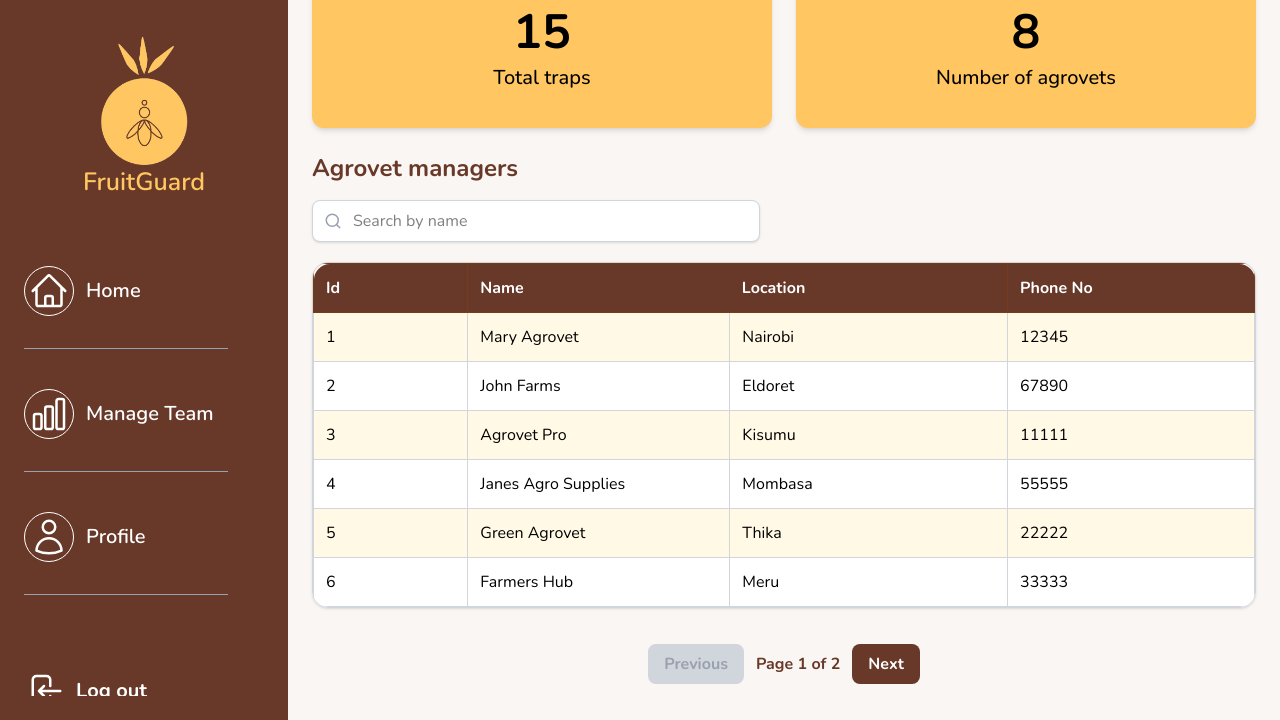
Scenario: HomePage › pagination works next/previous
(page scrolled)
Click the button "Next": {"x": 886, "y": 664} x1=852 y1=644 x2=920 y2=684
(page scrolled)
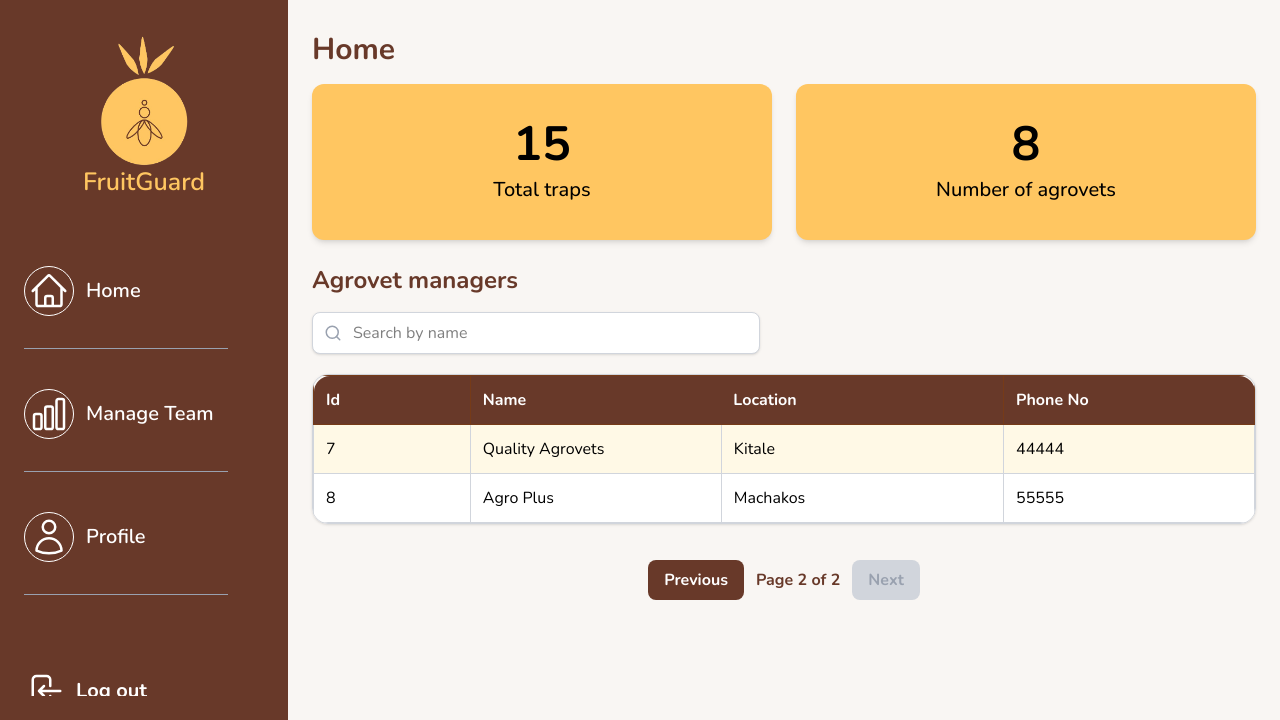
Expected: the text "Quality Agrovets" is shown, x1=470 y1=424 x2=721 y2=474
Expected: the text "Agro Plus" is shown, x1=470 y1=474 x2=721 y2=522
Click the button "Previous": {"x": 696, "y": 580} x1=648 y1=560 x2=744 y2=600
(page scrolled)
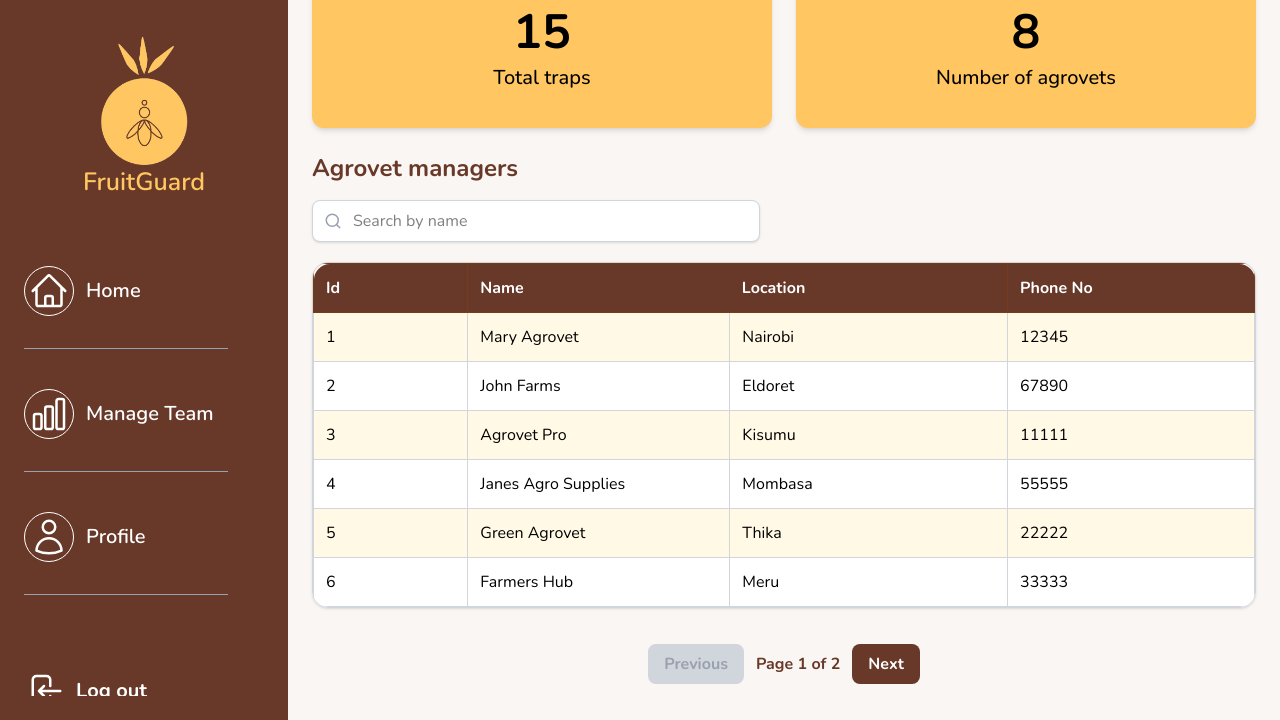
Expected: the text "Quality Agrovets" is gone
Expected: the text "Agro Plus" is gone
Expected: the text "Page 1 of 2" is shown, x1=756 y1=652 x2=840 y2=676
Click the button "Next": {"x": 886, "y": 664} x1=852 y1=644 x2=920 y2=684
(page scrolled)
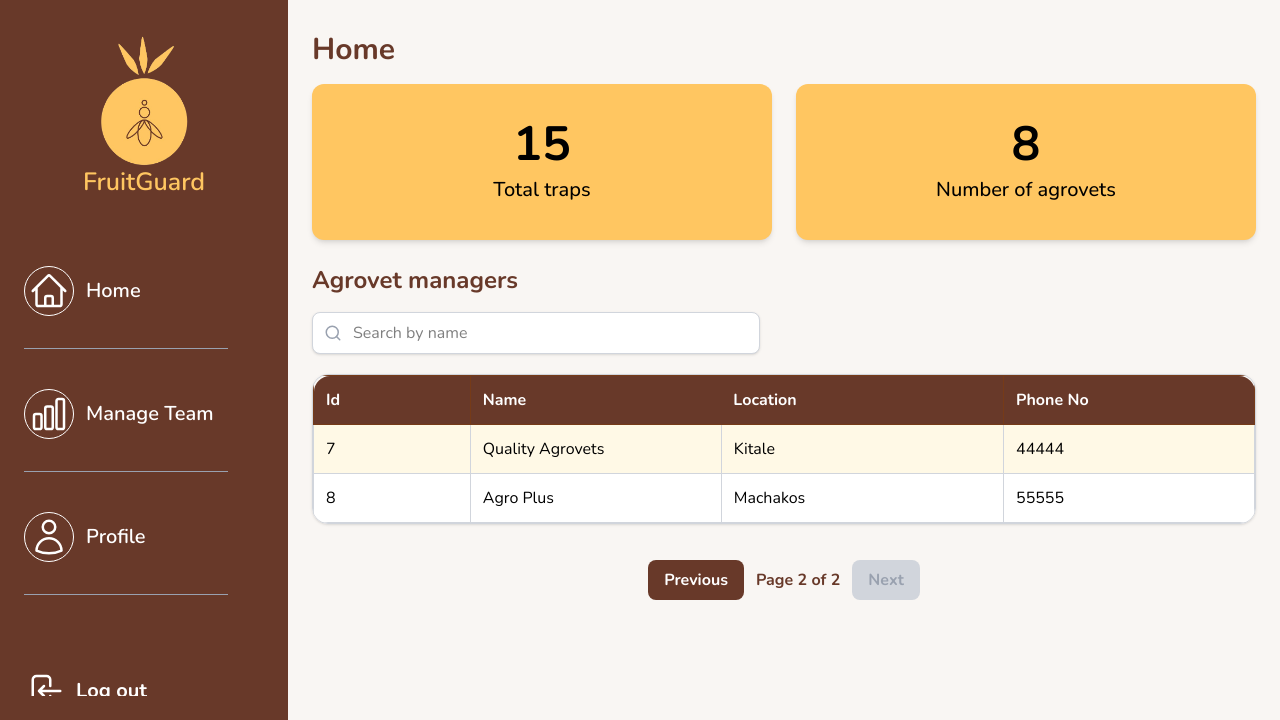
Expected: the text "Page 2 of 2" is shown, x1=756 y1=568 x2=840 y2=592
